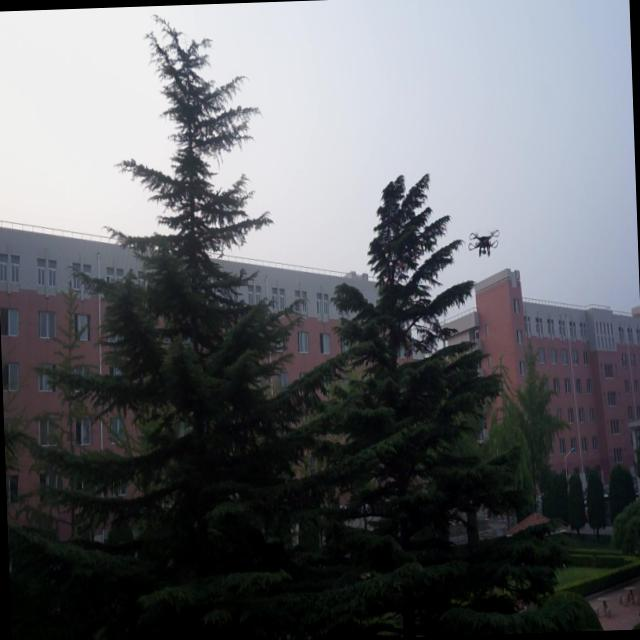drone: (464, 226, 502, 258)
